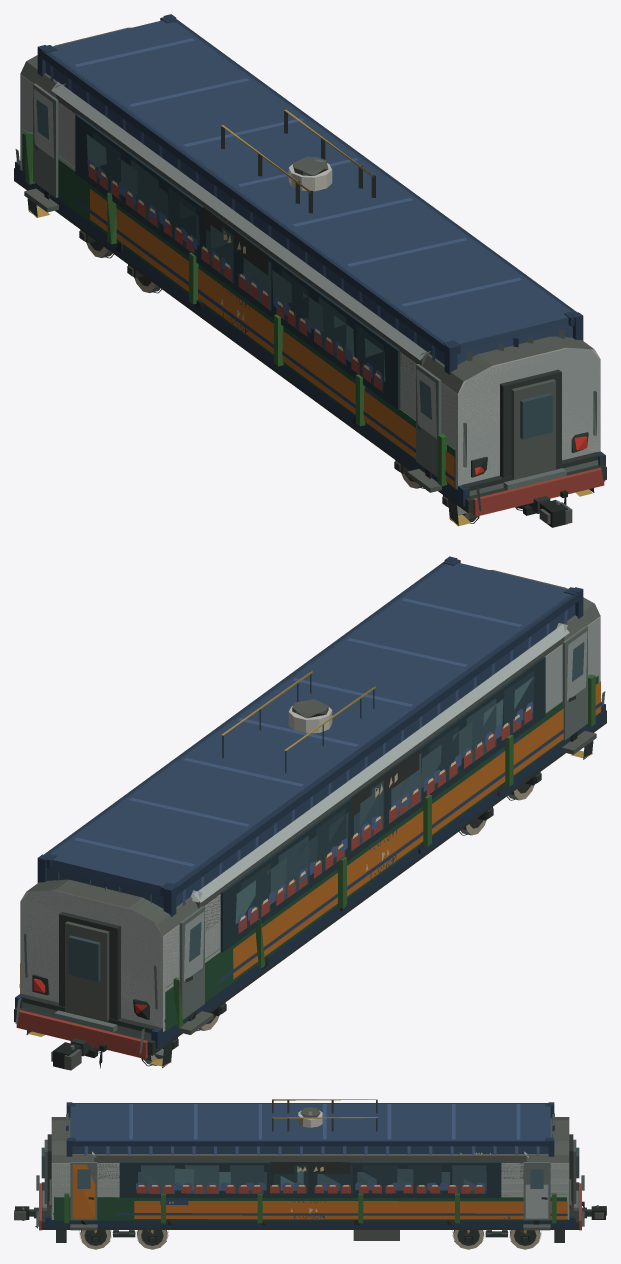
The model's file is riverside-carriage-kit-medium.glb.
3 renders of one model, top to bottom at view 1: azimuth 30°, elevation 25°; view 2: azimuth 150°, elevation 25°; view 3: azimuth 270°, elevation 25°, orthographic. The views are drawn at different scales.
Parts seen in each view (by area): view 1: GEO-carriage-container-body, GEO-carriage-executive-body, GEO-carriage-economy-body, GEO-executive-windows, GEO-carriage-ballast-body, GEO-carriage-harvest-body, GEO-executive-underframe, GEO-economy-windows, GEO-carriage-tank-body, GEO-executive-coupler-1; view 2: GEO-carriage-container-body, GEO-carriage-executive-body, GEO-carriage-economy-body, GEO-executive-windows, GEO-carriage-ballast-body, GEO-carriage-harvest-body, GEO-executive-underframe, GEO-economy-windows, GEO-carriage-tank-body, GEO-executive-coupler--1; view 3: GEO-carriage-container-body, GEO-carriage-executive-body, GEO-carriage-economy-body, GEO-executive-windows, GEO-carriage-ballast-body, GEO-carriage-harvest-body, GEO-executive-underframe, GEO-economy-windows, GEO-carriage-tank-body, GEO-PIVOT-executive-wheel--1--0.79-1, GEO-PIVOT-executive-wheel-1-0.79-1, GEO-PIVOT-executive-wheel--1-0.79-1 (+5 smaller).
Boxes of the visible parts, x1,y1,x2,y2 form: GEO-carriage-container-body: (15, 14, 605, 506); GEO-carriage-executive-body: (20, 55, 600, 492); GEO-carriage-economy-body: (20, 27, 600, 488); GEO-executive-windows: (36, 99, 431, 419); GEO-carriage-ballast-body: (51, 82, 430, 380); GEO-carriage-harvest-body: (22, 128, 455, 489); GEO-executive-underframe: (14, 149, 606, 526); GEO-economy-windows: (86, 134, 385, 385); GEO-carriage-tank-body: (221, 109, 375, 213); GEO-executive-coupler-1: (528, 496, 572, 527); GEO-carriage-container-body: (15, 556, 605, 1048); GEO-carriage-executive-body: (19, 597, 601, 1034); GEO-carriage-economy-body: (20, 570, 600, 1030); GEO-executive-windows: (189, 642, 584, 962); GEO-carriage-ballast-body: (191, 623, 569, 931); GEO-carriage-harvest-body: (165, 674, 598, 1031); GEO-executive-underframe: (14, 691, 606, 1068); GEO-economy-windows: (235, 676, 534, 927); GEO-carriage-tank-body: (221, 670, 375, 773); GEO-executive-coupler--1: (51, 1038, 92, 1070); GEO-carriage-container-body: (45, 1102, 575, 1227); GEO-carriage-executive-body: (41, 1117, 579, 1230); GEO-carriage-economy-body: (49, 1117, 571, 1219); GEO-executive-windows: (77, 1165, 543, 1193); GEO-carriage-ballast-body: (92, 1151, 528, 1178); GEO-carriage-harvest-body: (54, 1193, 566, 1223); GEO-executive-underframe: (35, 1175, 584, 1242); GEO-economy-windows: (136, 1168, 486, 1190); GEO-carriage-tank-body: (272, 1099, 377, 1131); GEO-PIVOT-executive-wheel--1--0.79-1: (508, 1230, 541, 1249); GEO-PIVOT-executive-wheel-1-0.79-1: (79, 1230, 112, 1249); GEO-PIVOT-executive-wheel--1-0.79-1: (452, 1230, 485, 1249).
Size of the model in its own units: 3.17 by 4.08 by 16.54.
